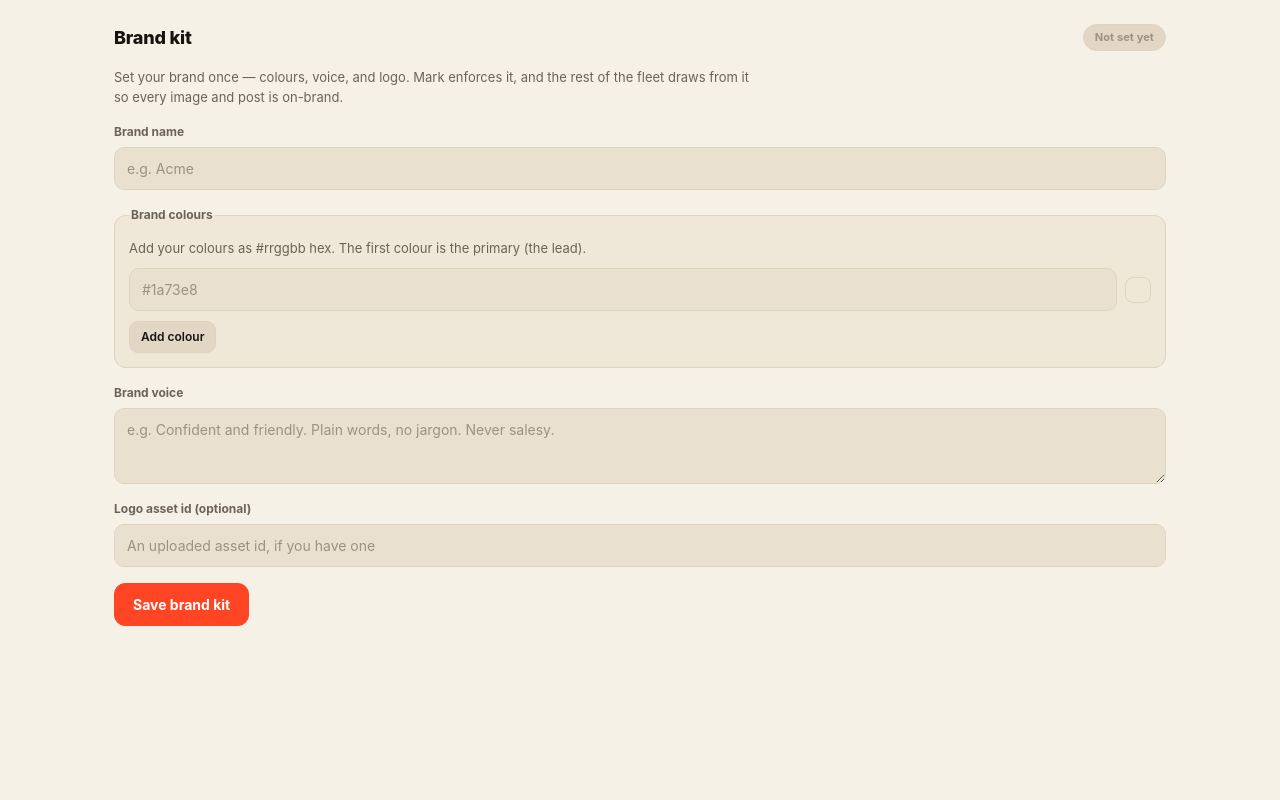
it: BrandKitPanel (#271) › surfaces an error if the save fails (e.g. an invalid hex rejected server-side)
Step 1. Type "Acme" into the field with placeholder "e.g. Acme" → {"x": 640, "y": 169}, box [114,147,1166,190]
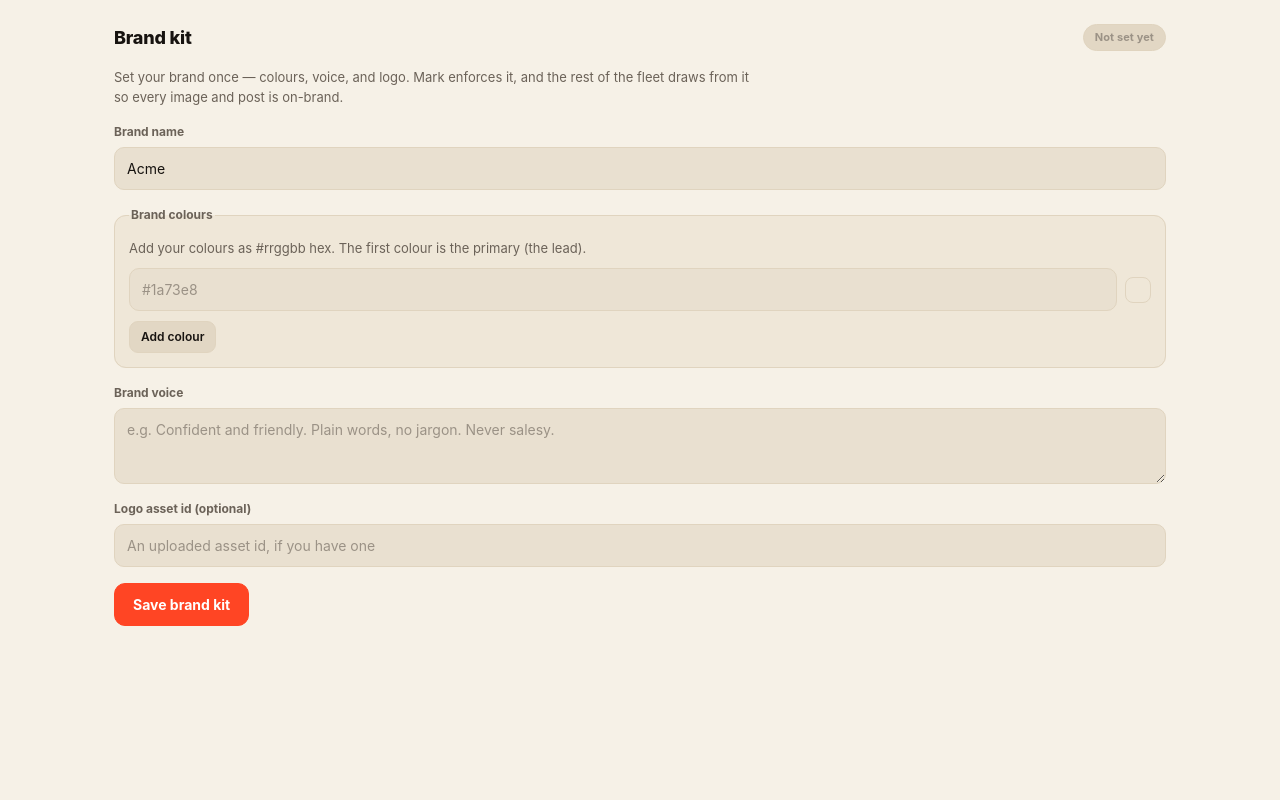
Step 2. Click the button "Save brand kit" → {"x": 182, "y": 605}, box [114,583,249,626]
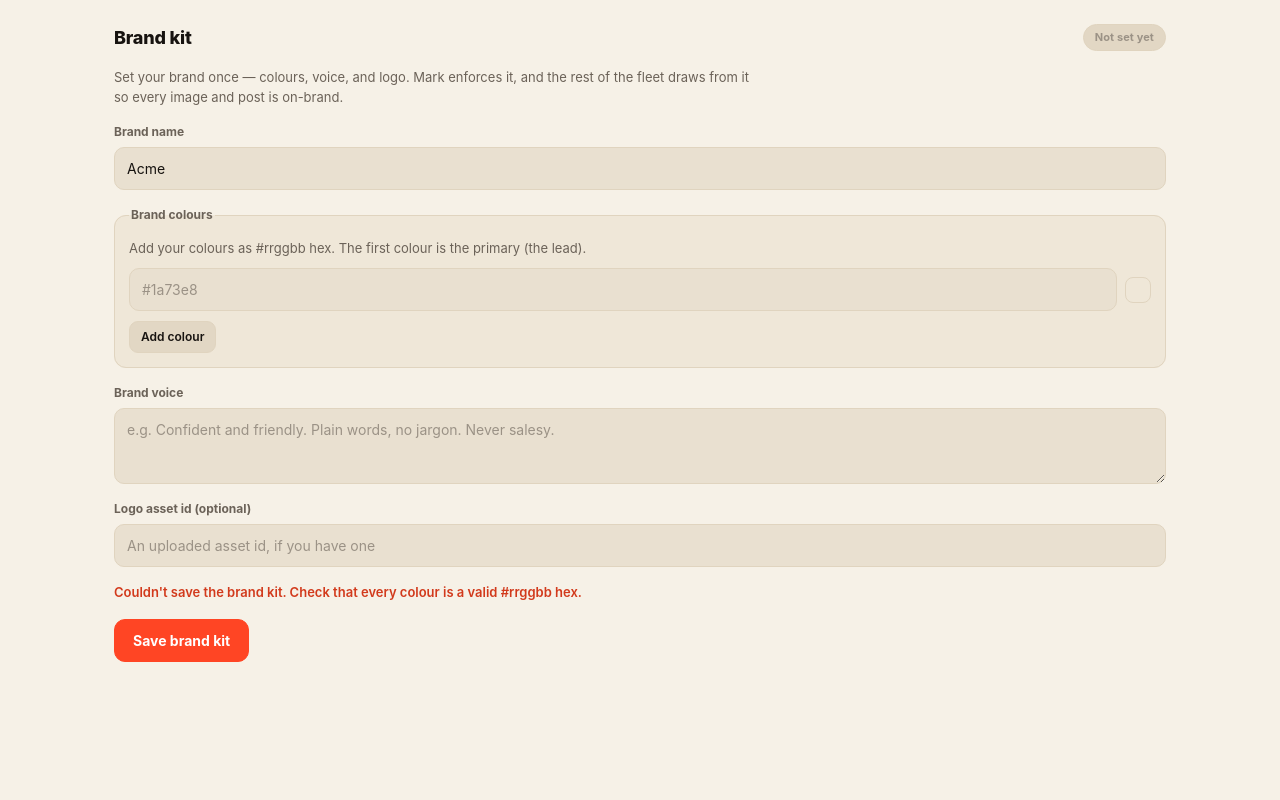
Check: the text "Couldn't save the brand kit. Check that every colour is a valid #rrggbb hex." is shown, box [114,584,582,600]
